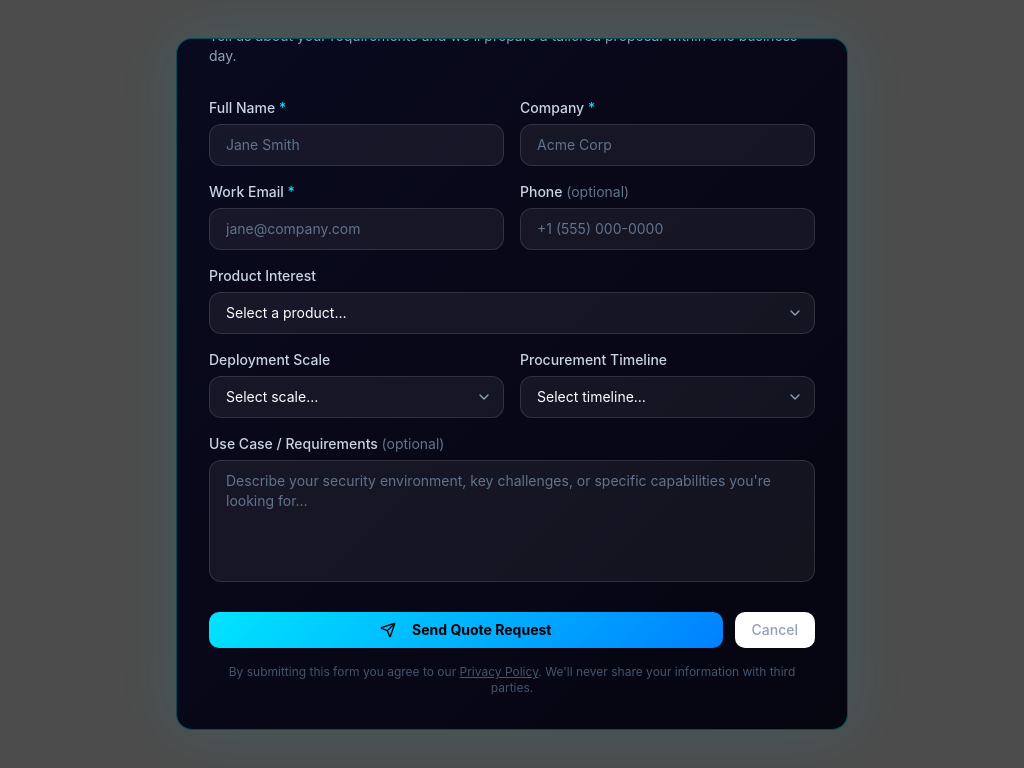
Test case: RequestQuoteModal › shows validation error when required fields are empty
(page scrolled)
Click the button "Send Quote Request". click: (466,630)
box: [209,612,722,648]
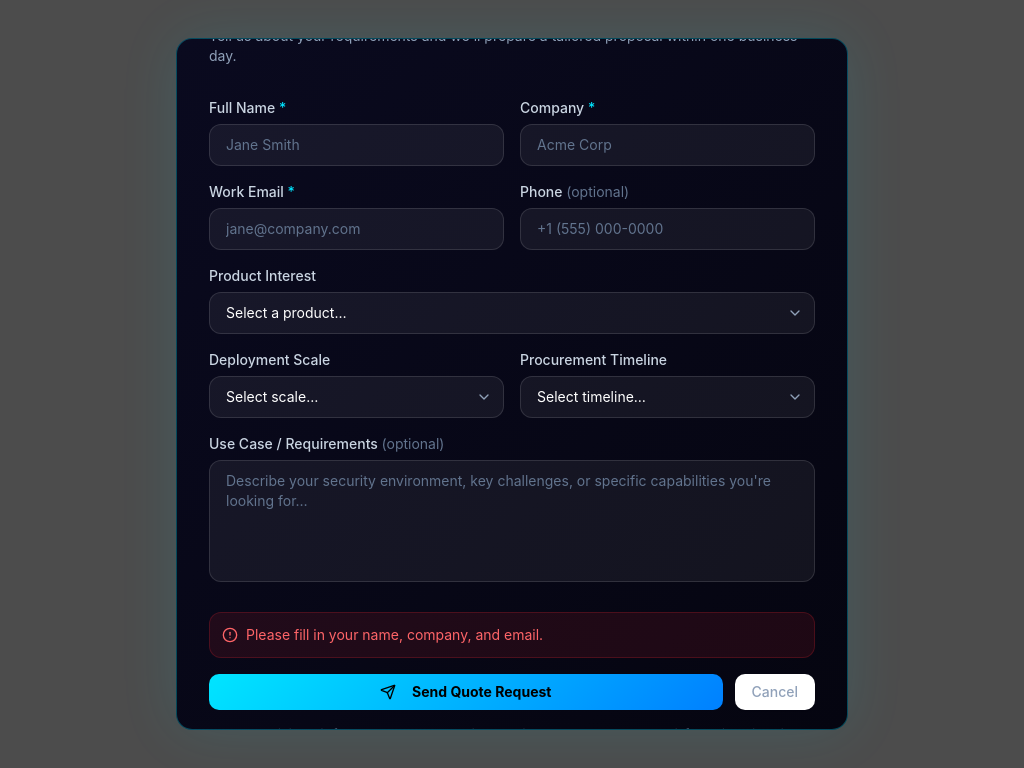
Expected: the text "Please fill in your name, company, and email." is shown, [209,612,815,658]
